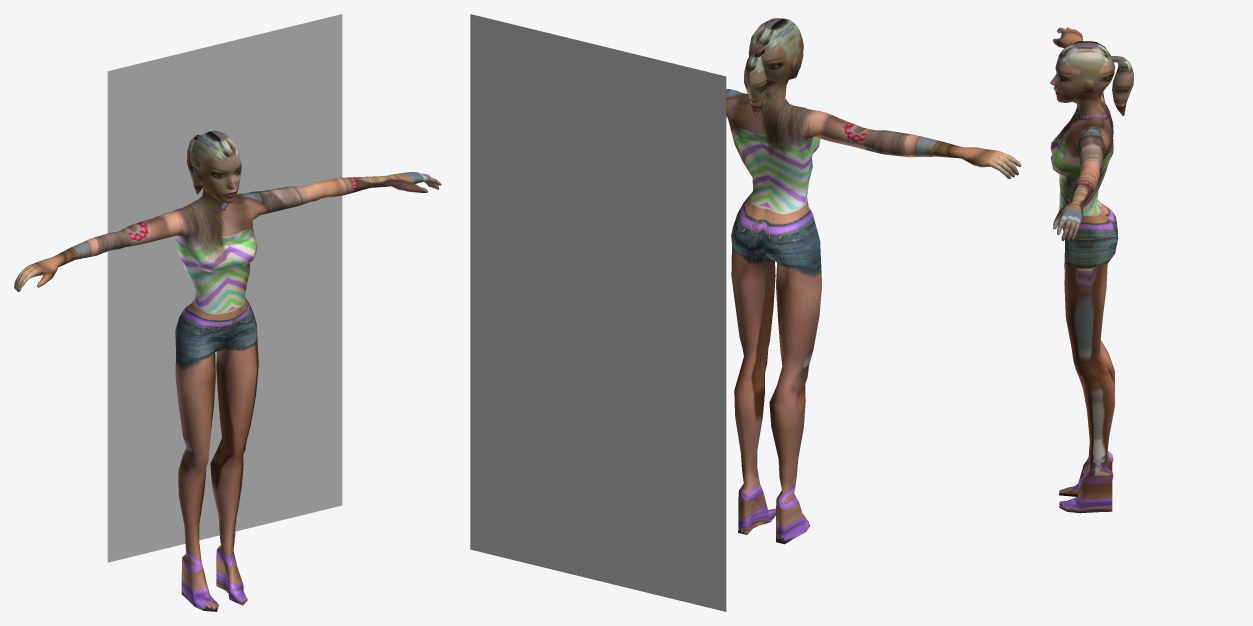
File: doll.fbx
3 views of the same model, side by side, from view 1: azimuth 30°, elevation 25°; view 2: azimuth 150°, elevation 25°; view 3: azimuth 270°, elevation 25° (orthographic). The views are drawn at different scales.
Visible parts, largest first — view 1: pPlane1, doll; view 2: pPlane1, doll; view 3: doll.
Boxes of the visible parts, x1,y1,x2,y2 form: pPlane1: [107, 14, 342, 562]; doll: [14, 130, 441, 611]; pPlane1: [470, 14, 726, 611]; doll: [726, 18, 1021, 544]; doll: [1050, 27, 1133, 513].
Size of the model in its own units: 19.73 by 21.95 by 7.72.
